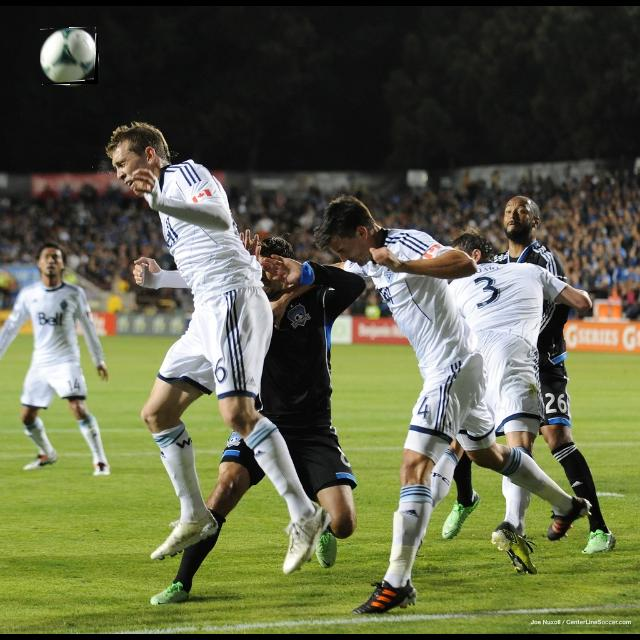Football: (40, 28, 98, 84)
